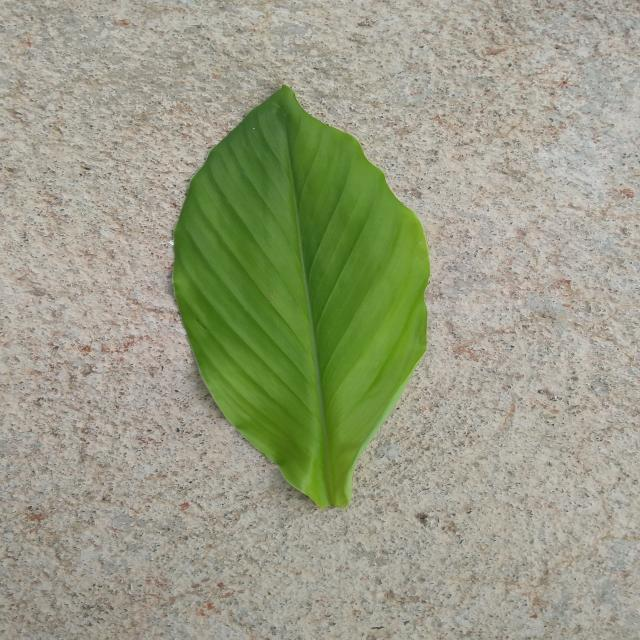turmeric: (173, 86, 429, 508)
